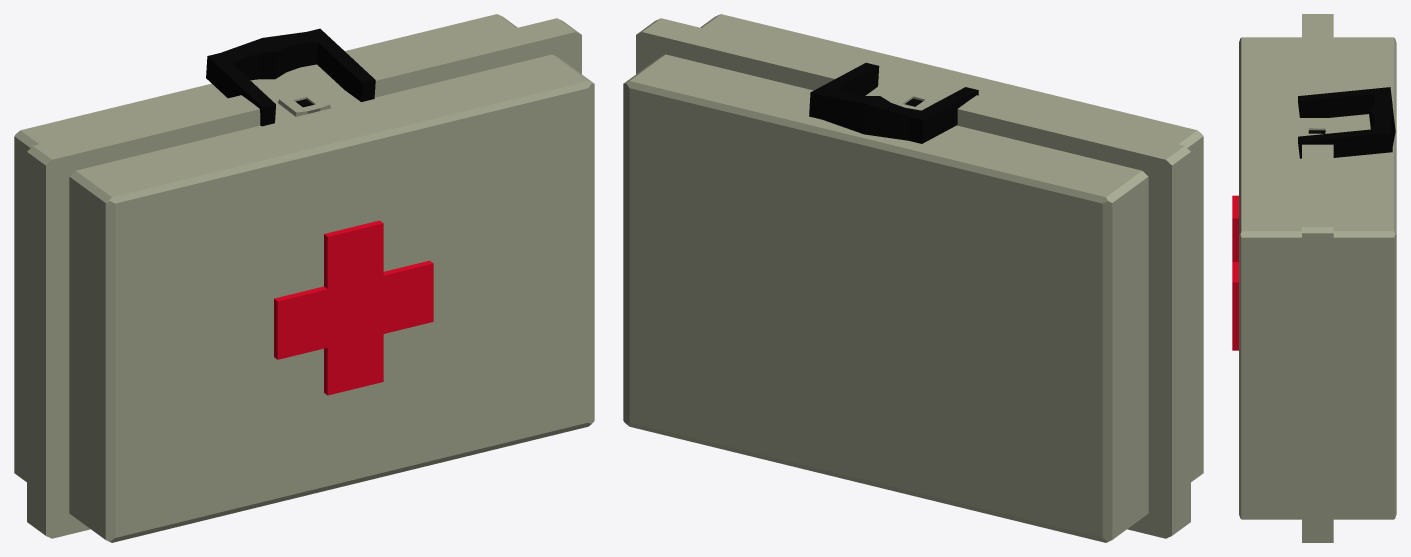
Rendered from HealthPickup.fbx.
3 renders of one model, left to right at view 1: azimuth 30°, elevation 25°; view 2: azimuth 150°, elevation 25°; view 3: azimuth 270°, elevation 25°, orthographic. The views are drawn at different scales.
Visible parts, largest first — view 1: Box; view 2: Box; view 3: Box.
Boxes of the visible parts, x1,y1,x2,y2 form: Box: (14,14,594,542); Box: (623,14,1203,542); Box: (1232,14,1396,542).
Bounding box in the file's own units: 305 × 215 × 97.03.
